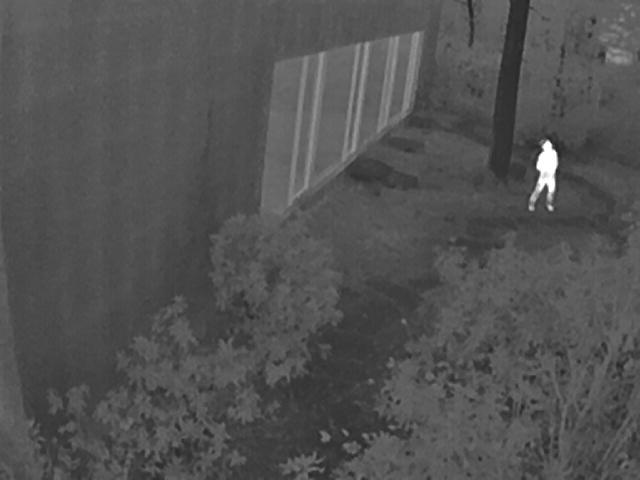person: (528, 139, 562, 210)
